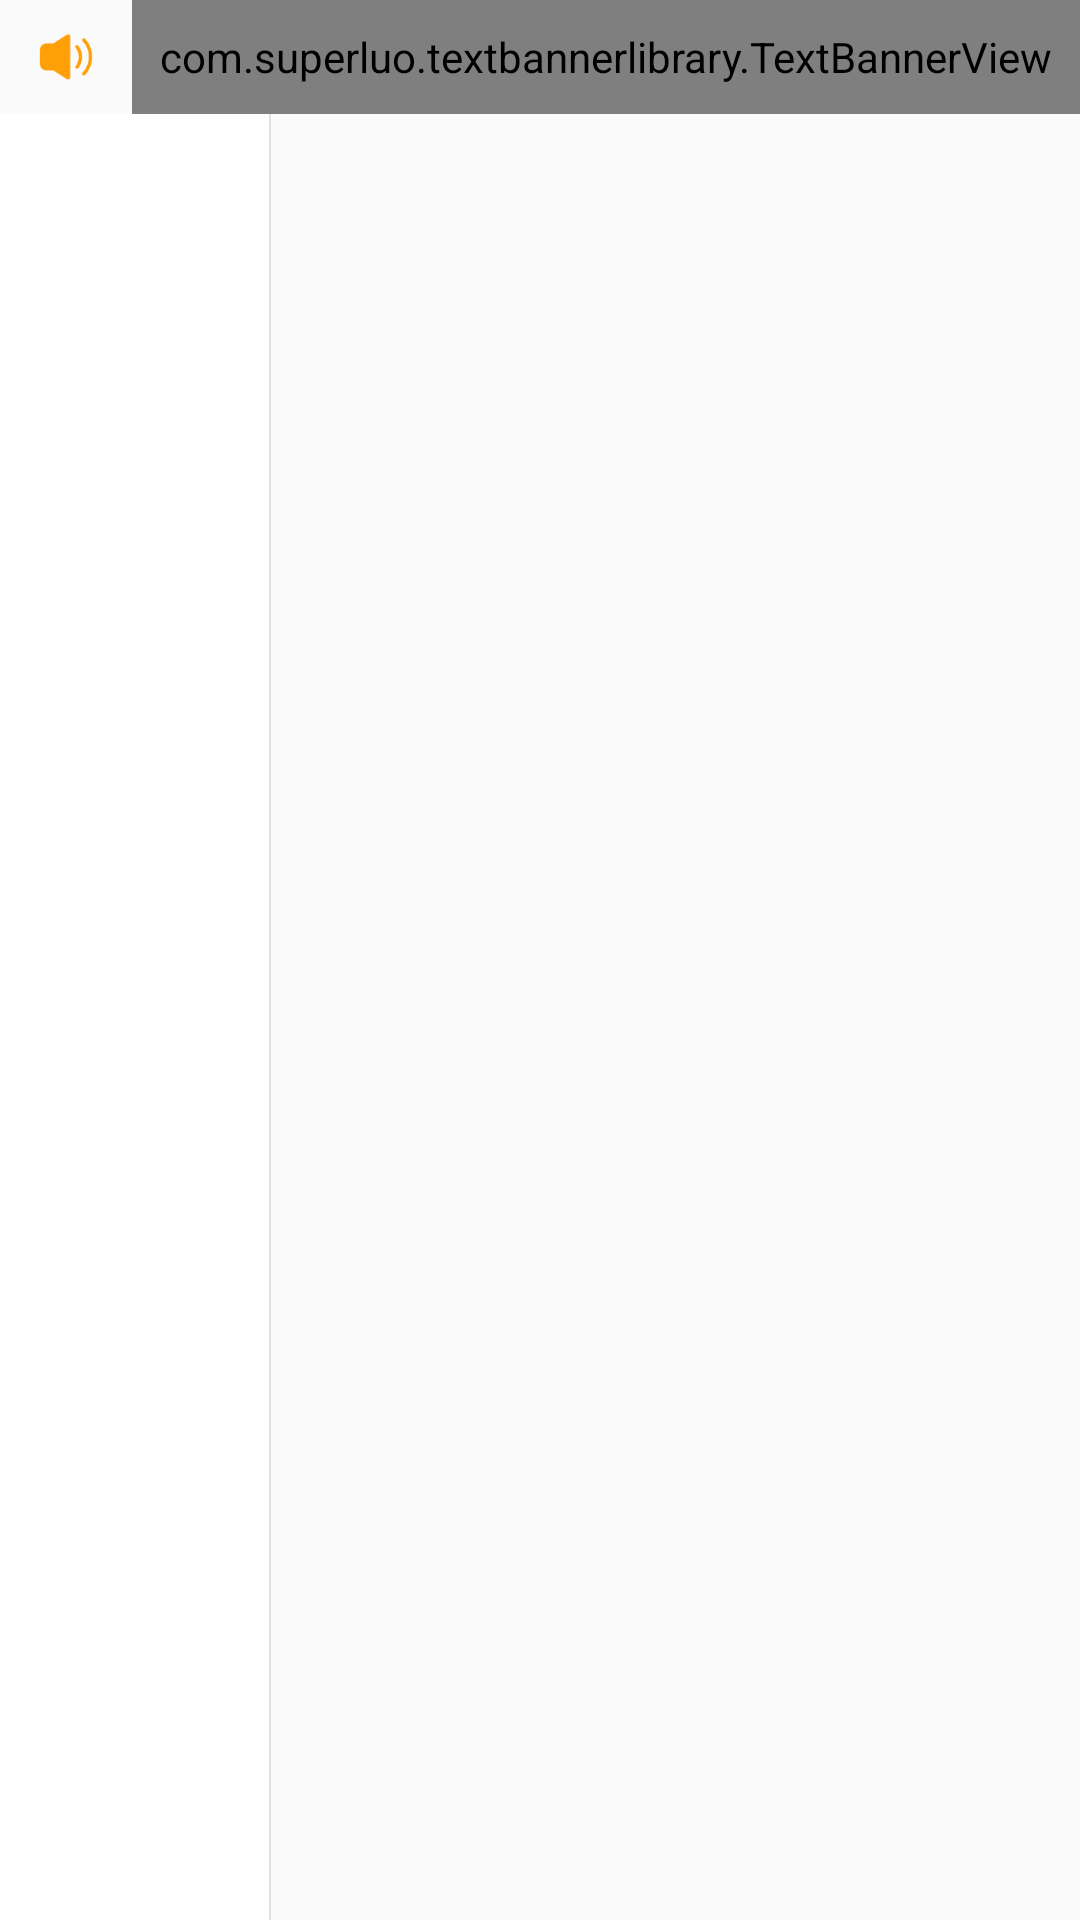

Named icons in this screenshot (1080 × 1920) and their bounding boxes, [x1, y1, x2, y2]:
laba: [39, 34, 93, 80]
